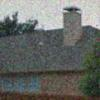chimneys: (62, 6, 82, 46)
